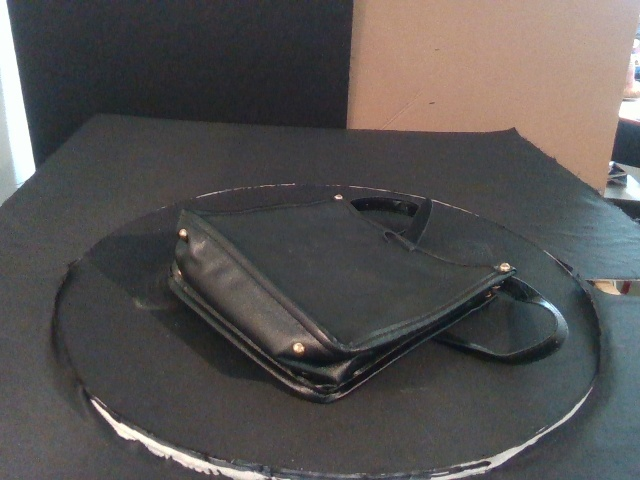bag: (165, 194, 516, 403)
